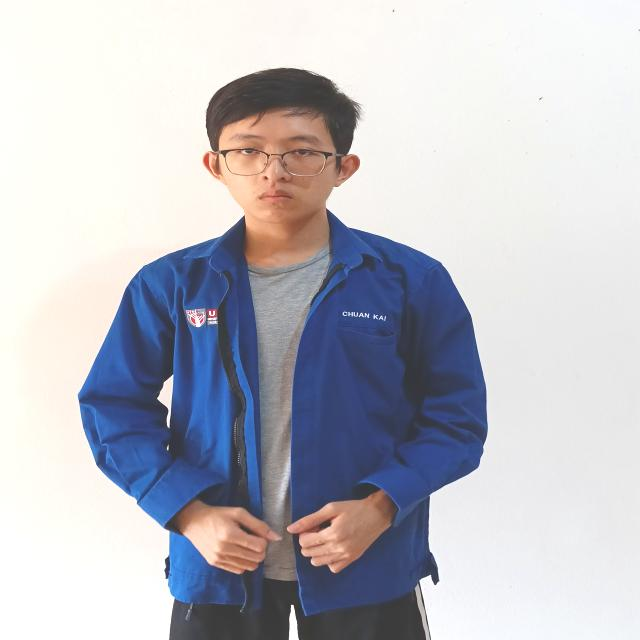person_with_labcoat: (79, 68, 486, 640)
